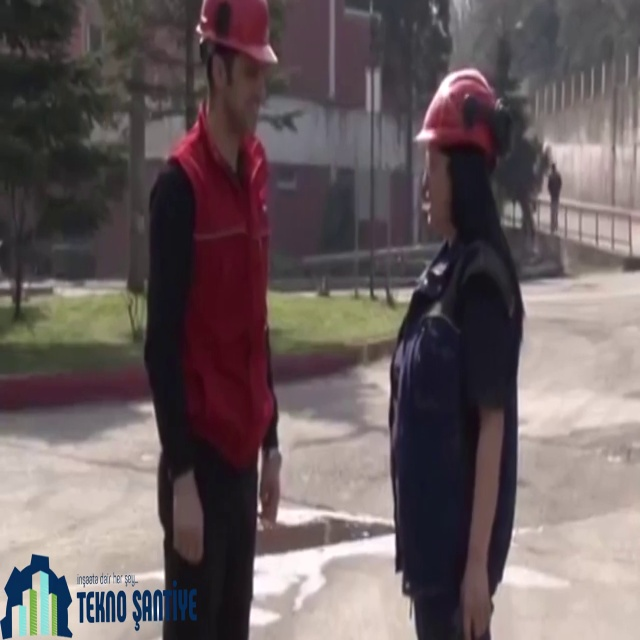safety_helmet: (413, 67, 508, 162), (196, 0, 280, 66)
